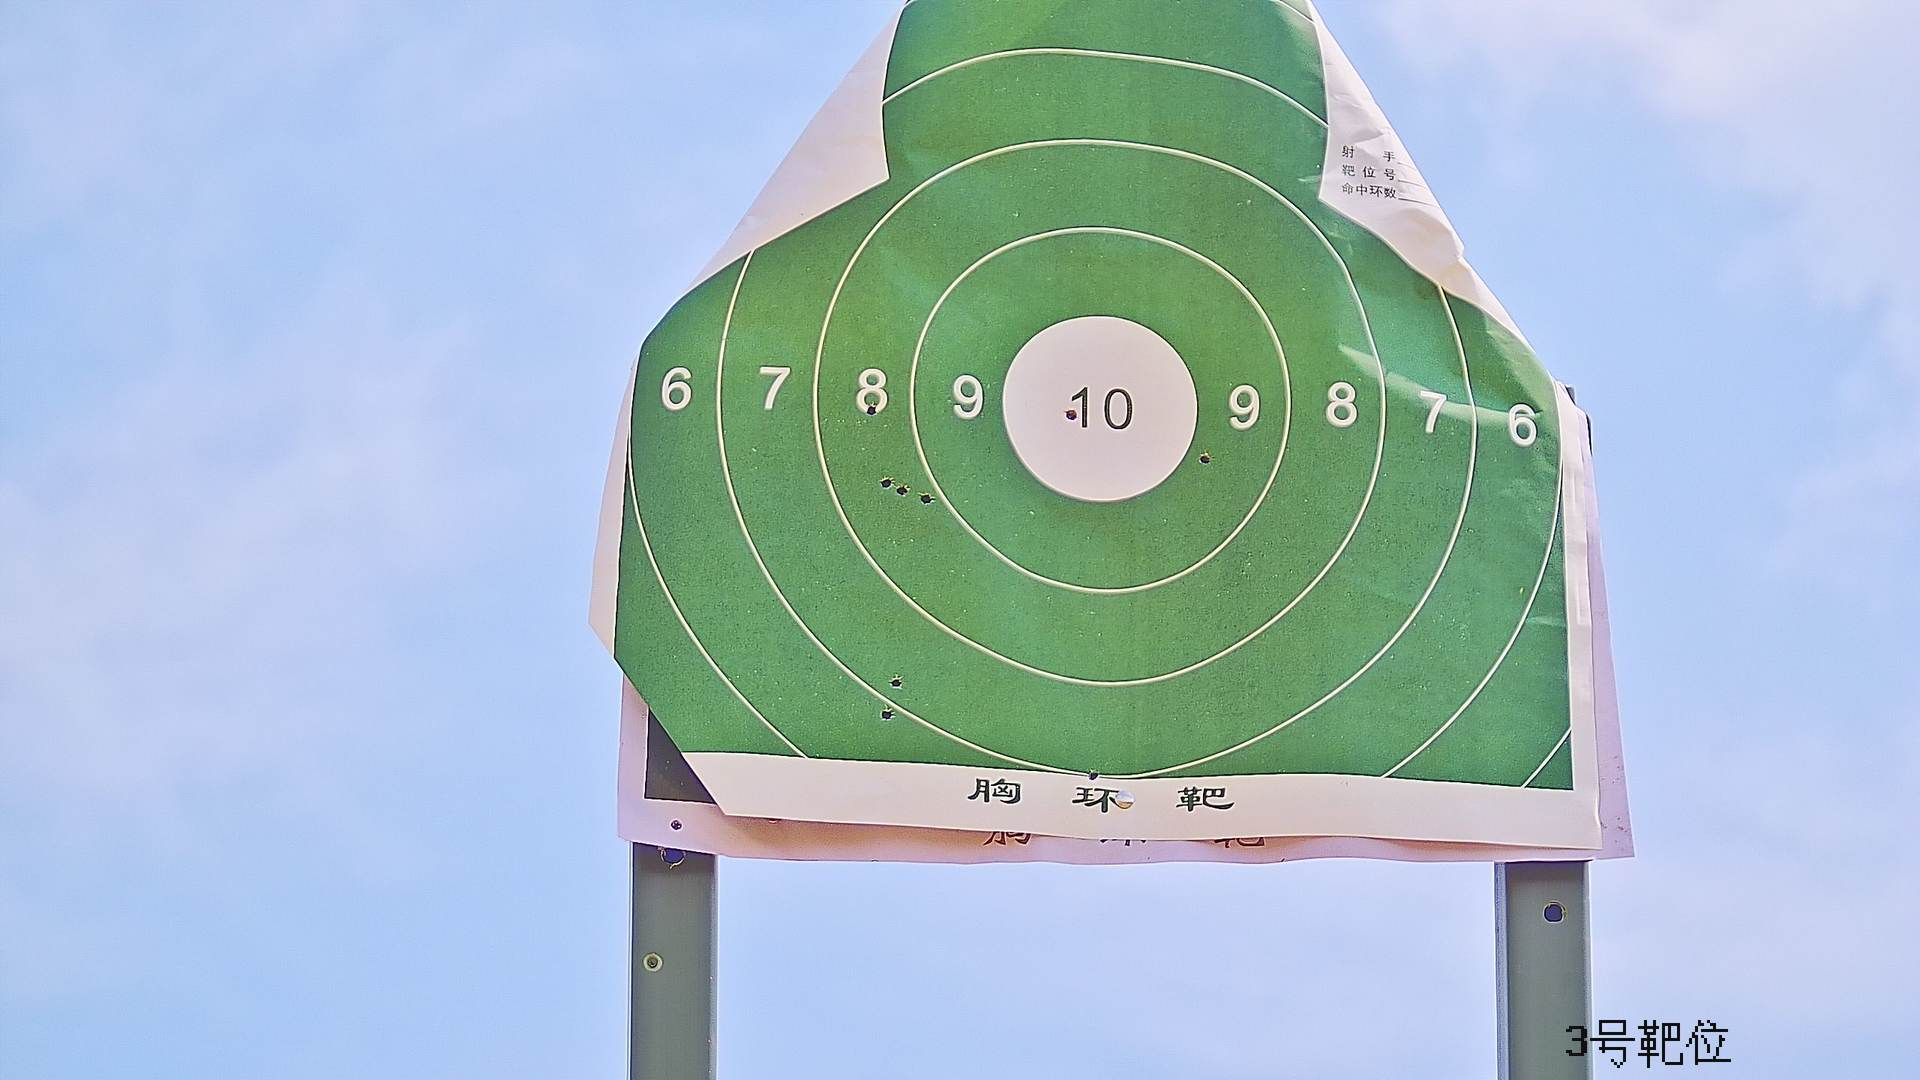hole: (1065, 407, 1077, 421), (920, 492, 934, 504), (1087, 769, 1100, 781), (865, 404, 877, 415), (897, 484, 909, 496), (890, 676, 902, 688), (881, 708, 893, 720), (881, 476, 891, 489), (1199, 454, 1209, 464)
kernel: (1095, 411, 1100, 415)
target: (613, 9, 1577, 799)
ten: (1002, 315, 1204, 505)
